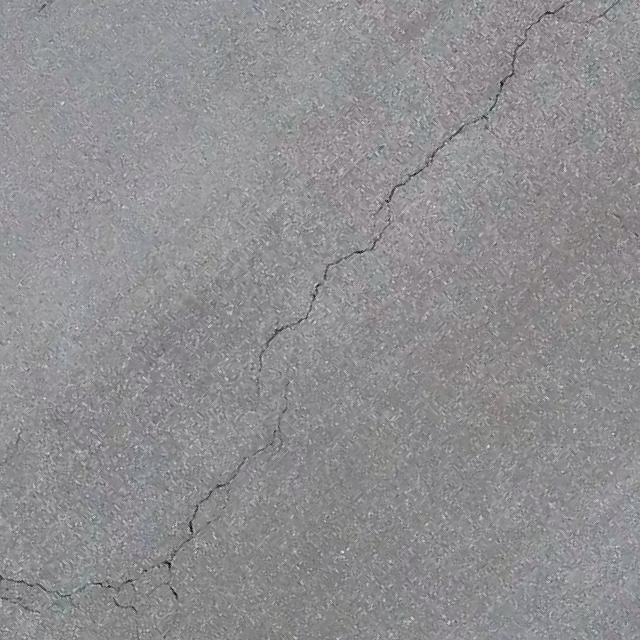GRIETA: (254, 0, 573, 397), (0, 380, 293, 598), (558, 0, 622, 25), (112, 598, 142, 639), (0, 594, 41, 614)
